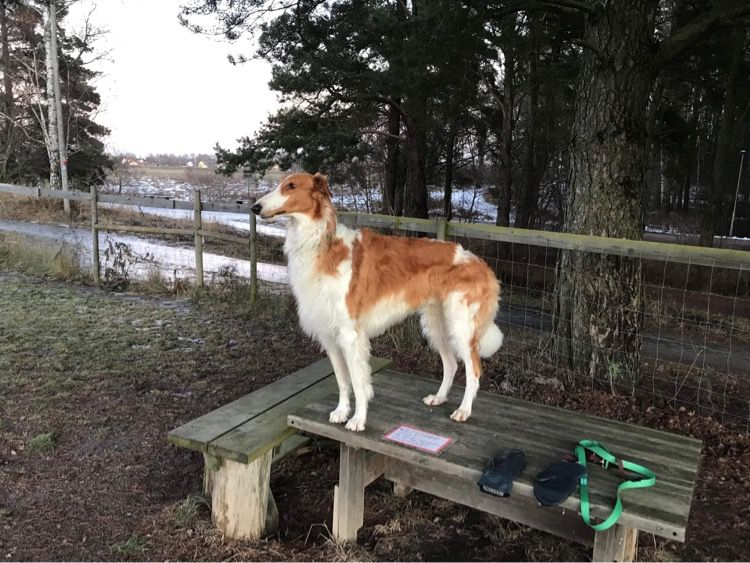borzoi: (234, 166, 507, 435)
